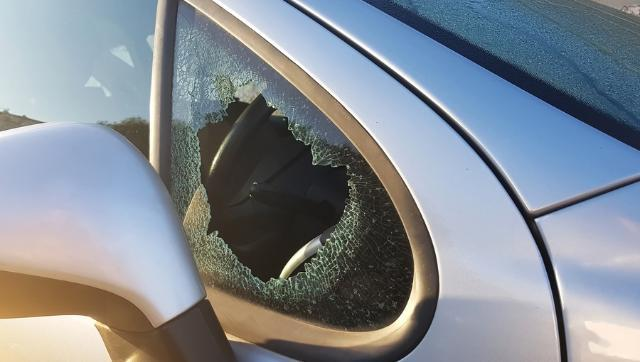Door: (166, 10, 435, 353)
